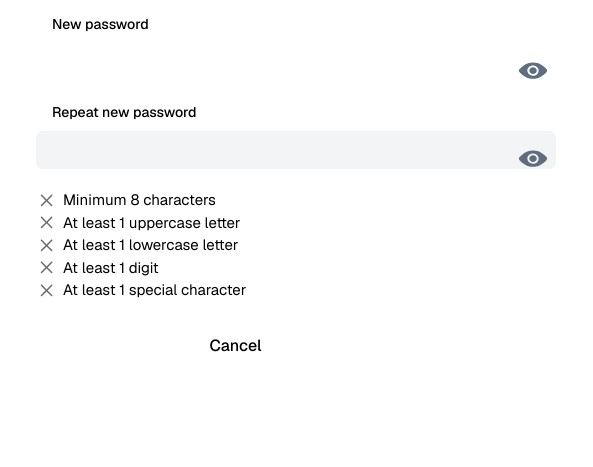
Test: ResetPasswordForm › shows error message when API returns error
Enter valid matching passwords
In the password field labelled "New password": (296, 62) [36,43,556,82], type "StrongPass1!"
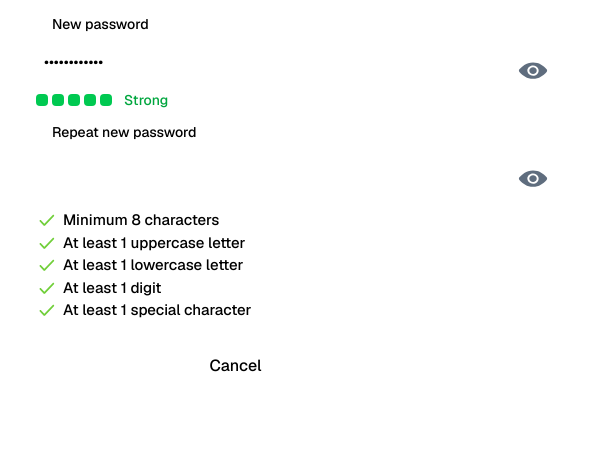
In the password field labelled "Repeat new password": (296, 170) [36,150,556,189], type "StrongPass1!"
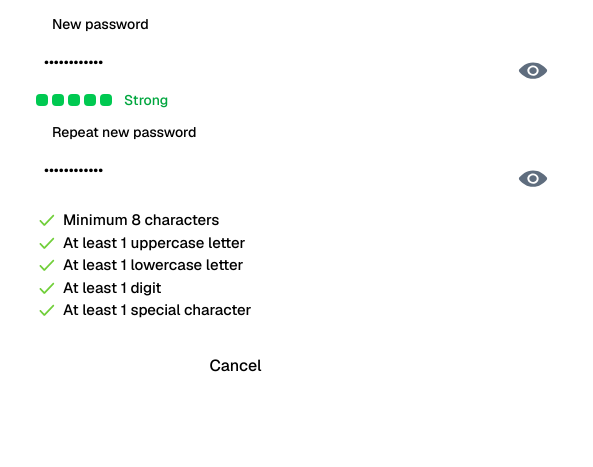
Submit the form
Submit the form
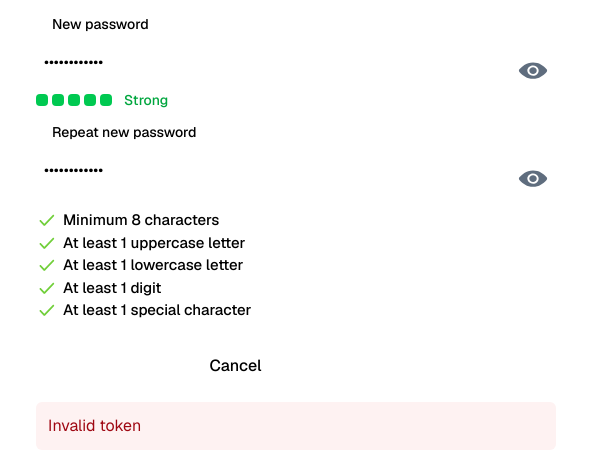
Check: the text "Invalid token" is shown, box [36,402,556,450]
